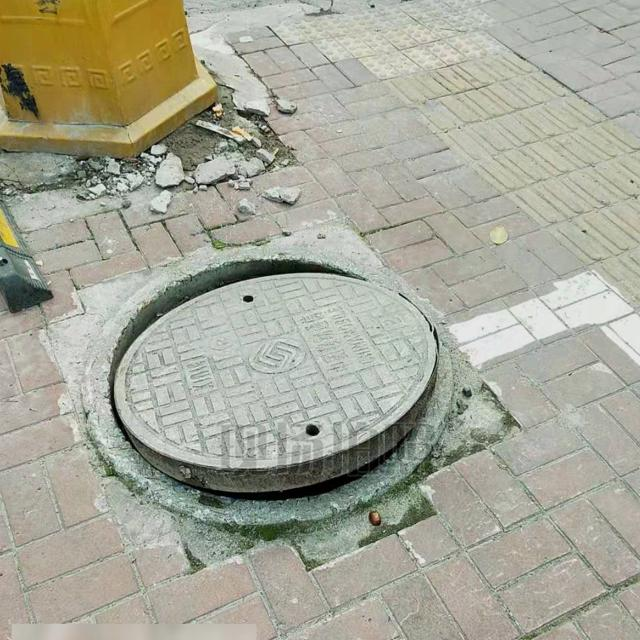uncovered: (85, 245, 444, 528)
